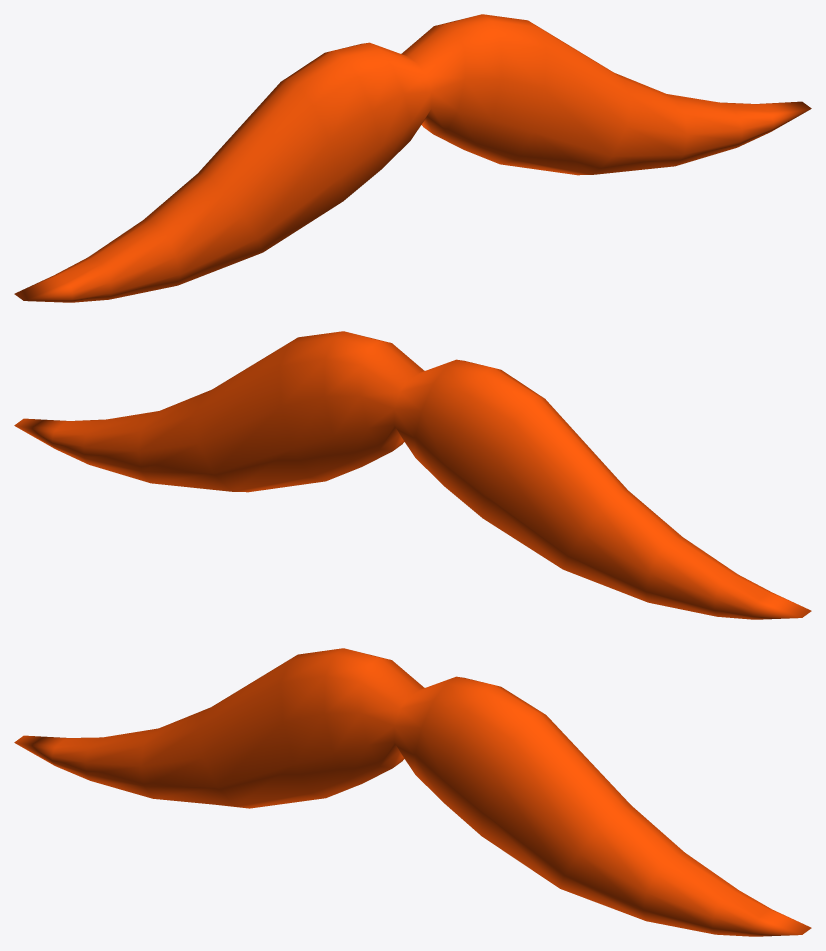
Rendered from Beard_12_06.fbx.
3 views of the same model, one above another, from view 1: azimuth 30°, elevation 25°; view 2: azimuth 150°, elevation 25°; view 3: azimuth 330°, elevation 25° (orthographic).
Visible parts, largest first — view 1: Beard_12_06; view 2: Beard_12_06; view 3: Beard_12_06.
Part boxes in pixels (bbox=[...]): Beard_12_06: bbox=[14, 14, 811, 302]; Beard_12_06: bbox=[14, 331, 811, 619]; Beard_12_06: bbox=[14, 648, 811, 936].
Size of the model in its own units: 19.83 by 4.47 by 2.17.
